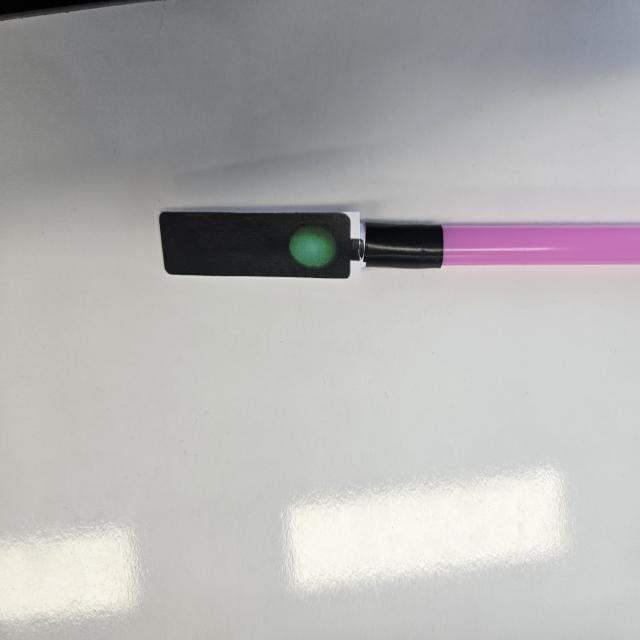traffic light: (159, 211, 365, 283)
